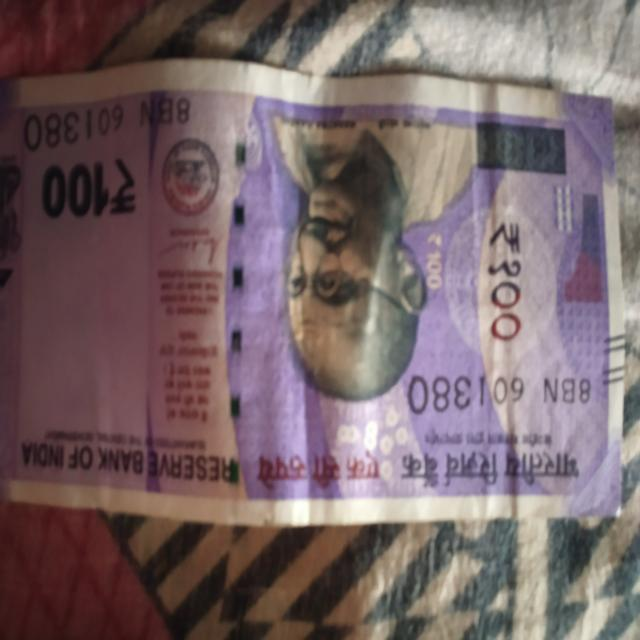100rs: (2, 79, 626, 523)
